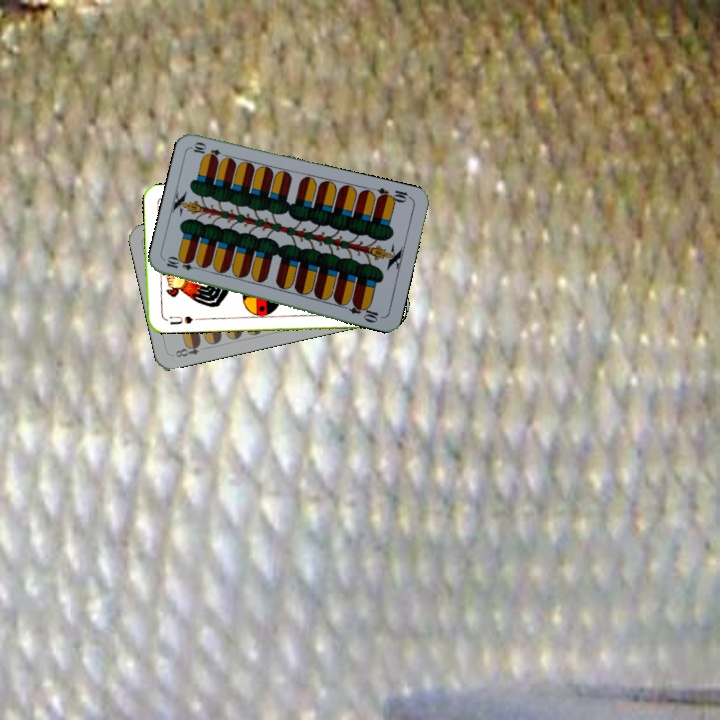E10: (373, 184, 414, 205), (162, 255, 203, 273)
E8: (171, 338, 209, 360)
SU: (166, 312, 201, 327)
